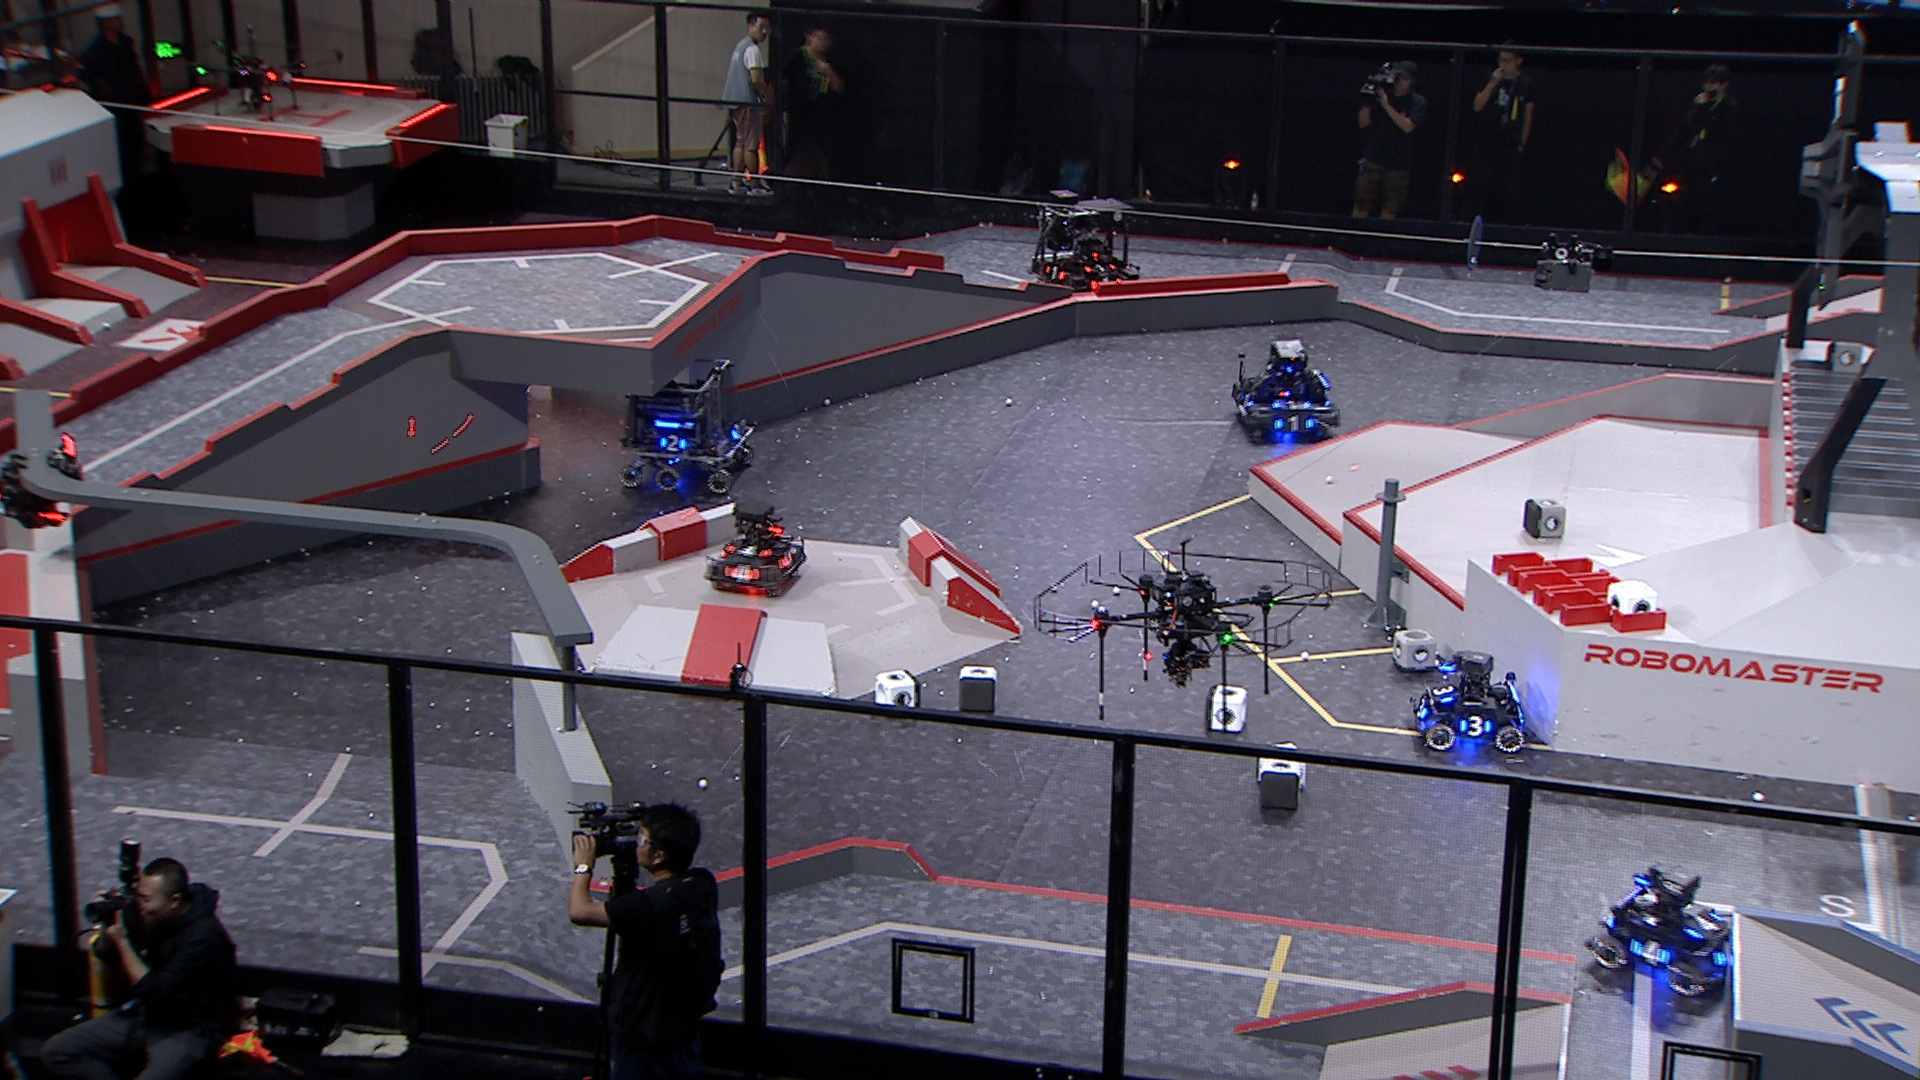armor: (1629, 938, 1671, 969), (1684, 911, 1724, 940), (1273, 413, 1316, 433), (723, 542, 771, 559), (723, 562, 760, 583), (1458, 716, 1493, 736), (1712, 940, 1733, 971), (659, 434, 688, 455), (1269, 398, 1313, 410), (1429, 683, 1455, 704), (1043, 262, 1069, 282), (1083, 261, 1116, 276), (1411, 698, 1429, 719), (778, 549, 796, 570), (1237, 390, 1254, 407), (731, 422, 746, 440)
car: (1581, 858, 1745, 1000), (613, 356, 757, 496), (1410, 651, 1528, 754), (1229, 339, 1340, 444), (1027, 199, 1139, 291), (703, 501, 808, 597)
